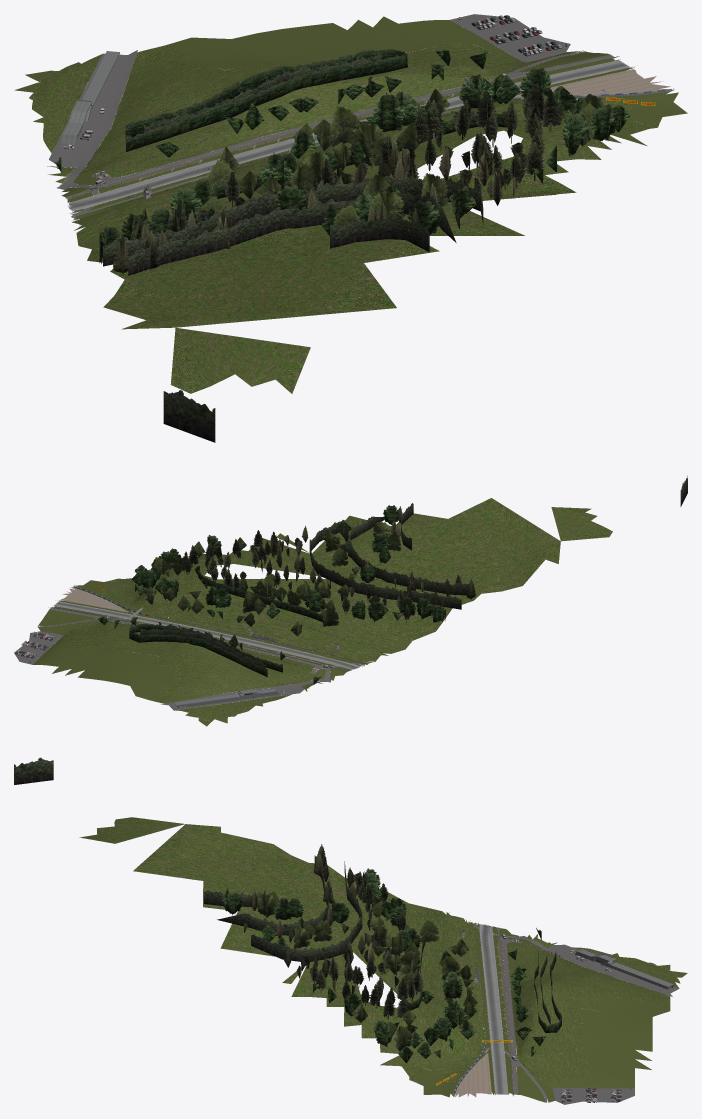
The picture shows the model from 3 angles, top to bottom: view 1: azimuth 30°, elevation 25°; view 2: azimuth 150°, elevation 25°; view 3: azimuth 270°, elevation 25°; orthographic projection. The views are drawn at different scales.
Parts seen in each view (by area): view 1: tile_t01; view 2: tile_t01; view 3: tile_t01.
Boxes of the visible parts, left/top/right/bottom form: tile_t01: left=14, top=14, right=687, bottom=442; tile_t01: left=14, top=475, right=687, bottom=726; tile_t01: left=14, top=757, right=687, bottom=1104.
Bounding box in the file's own units: 502 × 102 × 577.
Materials: 40 (40 with a texture image).
